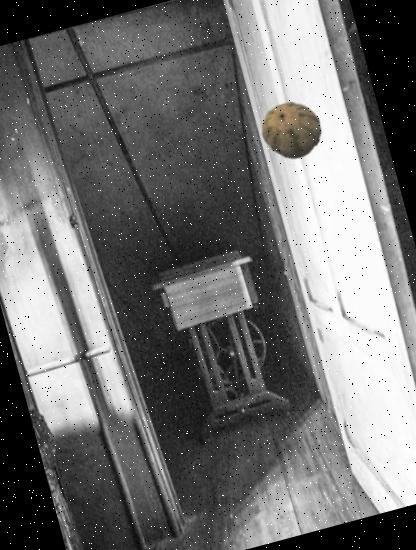Cantaloupe: (256, 94, 328, 166)
